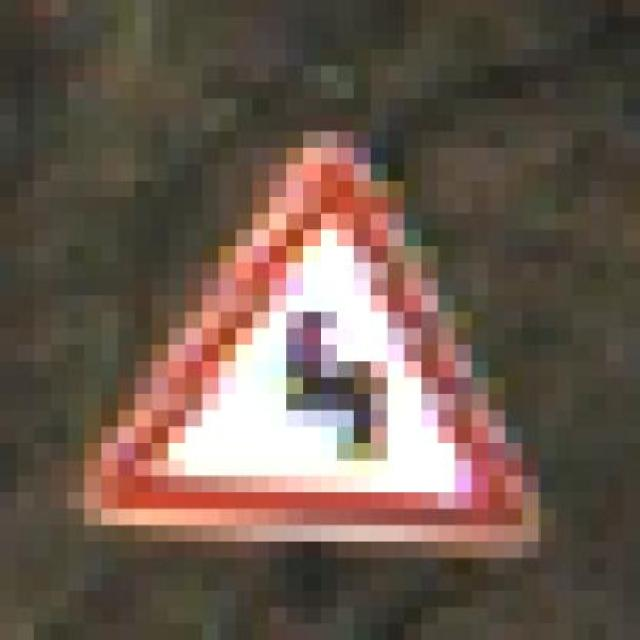Left Zig Zag Traffic: (17, 98, 606, 574)
